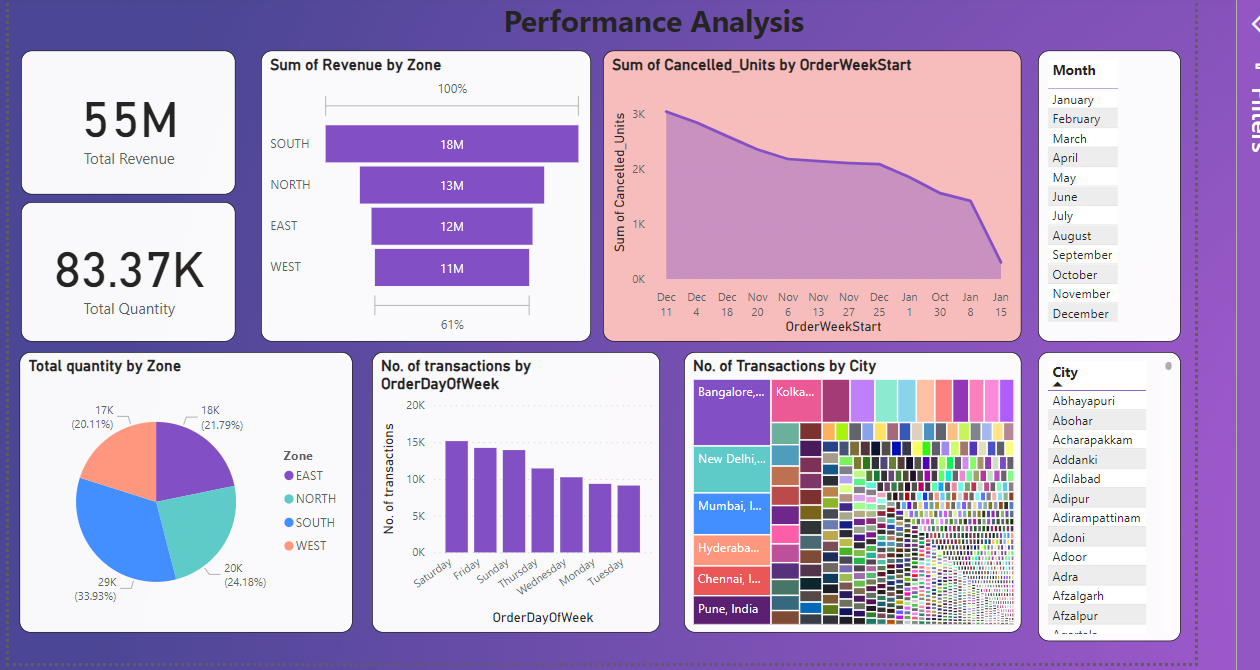

What the dashboard file says about the page in this screenshot:
{"tool":"powerbi","page":{"name":"Dashboard","canvas":[1280,720],"ordinal":0},"visuals":[{"type":"card","fields":{"Values":["Sum(Sales Raw.Revenue)"]},"box":[12.9,59.9,231.4,155.3],"z":0},{"type":"treemap","fields":{"Group":["PinCode-Geo.City"],"Values":["Count(Sales Raw.UserId)"]},"box":[728.1,385.1,364,302.6],"z":1000},{"type":"stackedAreaChart","fields":{"Y":["Sum(Sales Raw.Cancelled_Units)"],"Category":["Sales Raw.OrderWeekStart"]},"box":[640.7,59.9,451.4,313.9],"z":2000},{"type":"funnel","fields":{"Y":["Sum(Sales Raw.Revenue)"],"Category":["PinCode-Geo.Zone"]},"box":[271.8,59.9,356,313.9],"z":3000},{"type":"clusteredColumnChart","fields":{"Category":["Sales Raw.OrderDayOfWeek"],"Y":["CountNonNull(Sales Raw.UserId)"]},"box":[391.6,385.1,310.7,302.6],"z":4000},{"type":"card","fields":{"Values":["CountNonNull(Sales Raw.ProductId)"]},"box":[12.9,223.3,231.4,150.5],"z":5000},{"type":"pieChart","fields":{"Series":["PinCode-Geo.Zone"],"Y":["Sum(Sales Raw.Units)"]},"box":[11.3,385.1,359.2,302.6],"z":6000},{"type":"tableEx","fields":{"Values":["Sales Raw.OrderDate.Variation.Date Hierarchy.Month"]},"box":[1109.9,59.9,153.7,313.9],"z":7000},{"type":"tableEx","fields":{"Values":["Mod3_Raw_CityTier_v0 1.City"]},"box":[1109.9,385.1,153.7,312.3],"z":8000},{"type":"textbox","box":[292.9,0,776.6,59.9],"z":8001}]}

Visuals, with their boxes in screenshot pixels (x1, y1, x2, y2):
card - Sum(Sales Raw.Revenue): x1=25, y1=48, x2=237, y2=191
treemap - PinCode-Geo.City x Count(Sales Raw.UserId): x1=681, y1=347, x2=1014, y2=624
stackedAreaChart - Sum(Sales Raw.Cancelled_Units) x Sales Raw.OrderWeekStart: x1=601, y1=48, x2=1014, y2=336
funnel - Sum(Sales Raw.Revenue) x PinCode-Geo.Zone: x1=262, y1=48, x2=589, y2=336
clusteredColumnChart - Sales Raw.OrderDayOfWeek x CountNonNull(Sales Raw.UserId): x1=372, y1=347, x2=657, y2=624
card - CountNonNull(Sales Raw.ProductId): x1=25, y1=198, x2=237, y2=336
pieChart - PinCode-Geo.Zone x Sum(Sales Raw.Units): x1=23, y1=347, x2=353, y2=624
tableEx - Sales Raw.OrderDate.Variation.Date Hierarchy.Month: x1=1031, y1=48, x2=1172, y2=336
tableEx - Mod3_Raw_CityTier_v0 1.City: x1=1031, y1=347, x2=1172, y2=633
textbox: x1=282, y1=0, x2=994, y2=48
